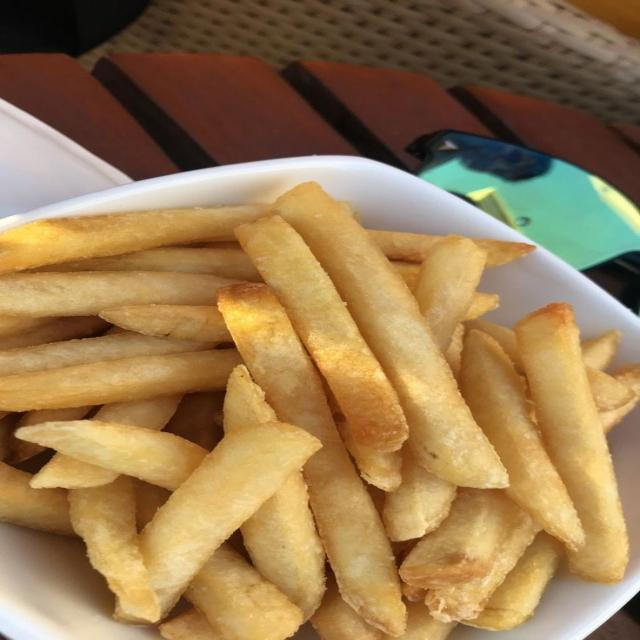potato fries: (0, 182, 639, 639), (274, 183, 507, 487), (219, 285, 405, 635), (236, 217, 407, 451), (140, 423, 320, 614), (515, 304, 628, 582), (460, 330, 584, 549), (0, 205, 268, 272), (0, 350, 239, 410), (426, 503, 539, 622), (69, 476, 159, 623), (16, 420, 206, 489), (241, 471, 325, 619), (186, 544, 303, 639), (400, 489, 510, 589), (0, 272, 235, 317), (465, 532, 562, 630), (0, 332, 213, 375), (414, 236, 486, 352), (35, 248, 259, 281), (383, 447, 455, 541), (0, 463, 73, 534), (334, 414, 401, 491), (100, 305, 230, 342), (311, 577, 388, 639), (0, 317, 108, 349), (167, 392, 223, 450), (94, 396, 180, 430), (466, 319, 522, 371), (367, 230, 442, 263), (586, 367, 635, 411), (400, 602, 455, 639), (159, 609, 224, 639), (134, 479, 170, 530), (17, 406, 92, 427), (582, 331, 621, 370), (599, 397, 638, 434), (0, 317, 53, 340), (444, 323, 464, 379), (463, 291, 499, 319), (464, 292, 499, 320), (0, 414, 19, 461), (614, 365, 639, 395)
